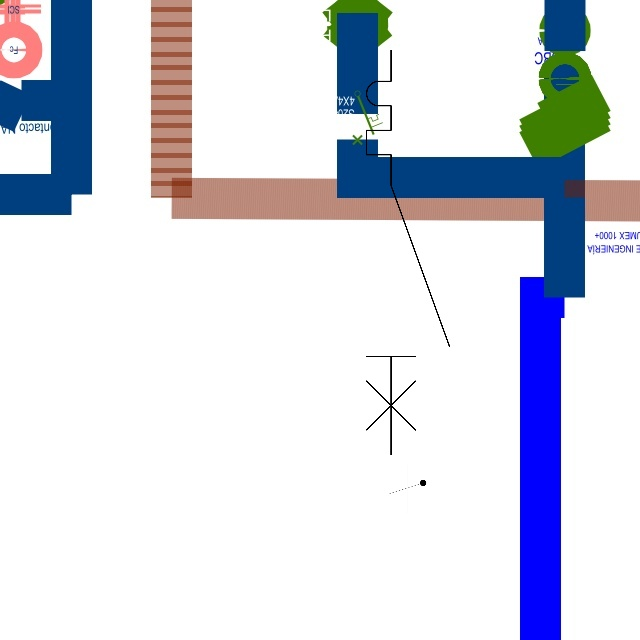interruptor_termomagnetico: (356, 40, 460, 464)
